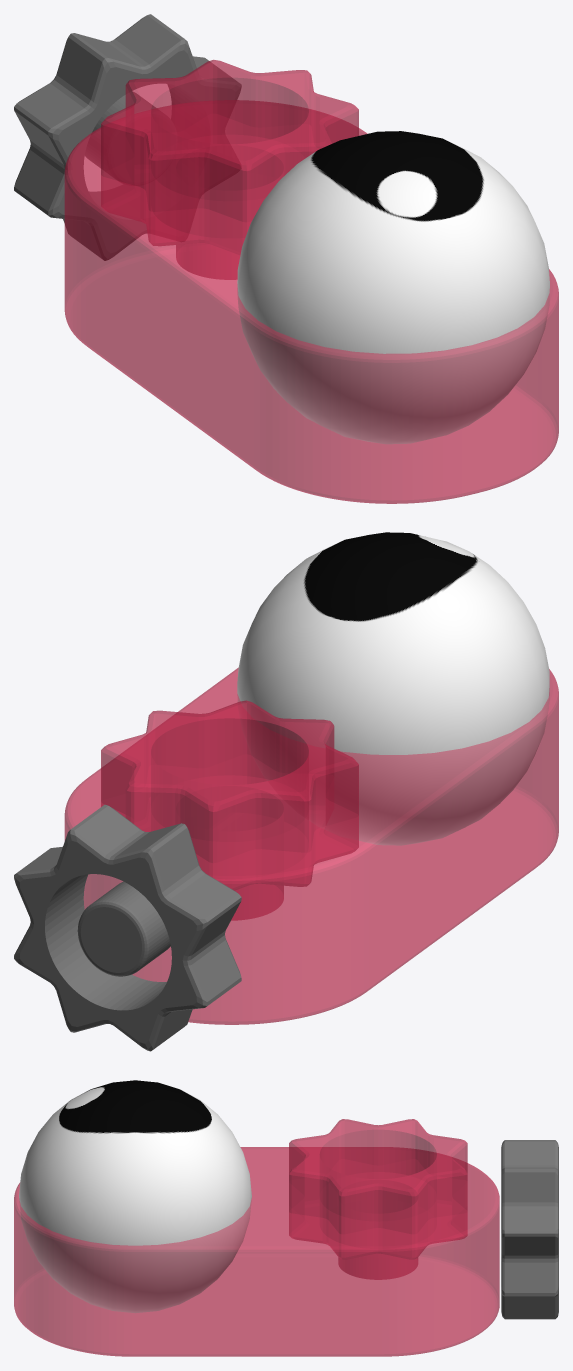
The model's file is CHARACTER_kiditech_red.glb.
3 renders of one model, top to bottom at view 1: azimuth 30°, elevation 25°; view 2: azimuth 150°, elevation 25°; view 3: azimuth 270°, elevation 25°, orthographic. The views are drawn at different scales.
Parts seen in each view (by area): view 1: KiditechRED; view 2: KiditechRED; view 3: KiditechRED.
Part boxes in pixels (left/top/right/bottom): KiditechRED: left=14, top=14, right=558, bottom=503; KiditechRED: left=14, top=532, right=558, bottom=1051; KiditechRED: left=14, top=1080, right=558, bottom=1356.
Size of the model in its own units: 2 by 1.96 by 4.49.
3 materials, 1 textured.
